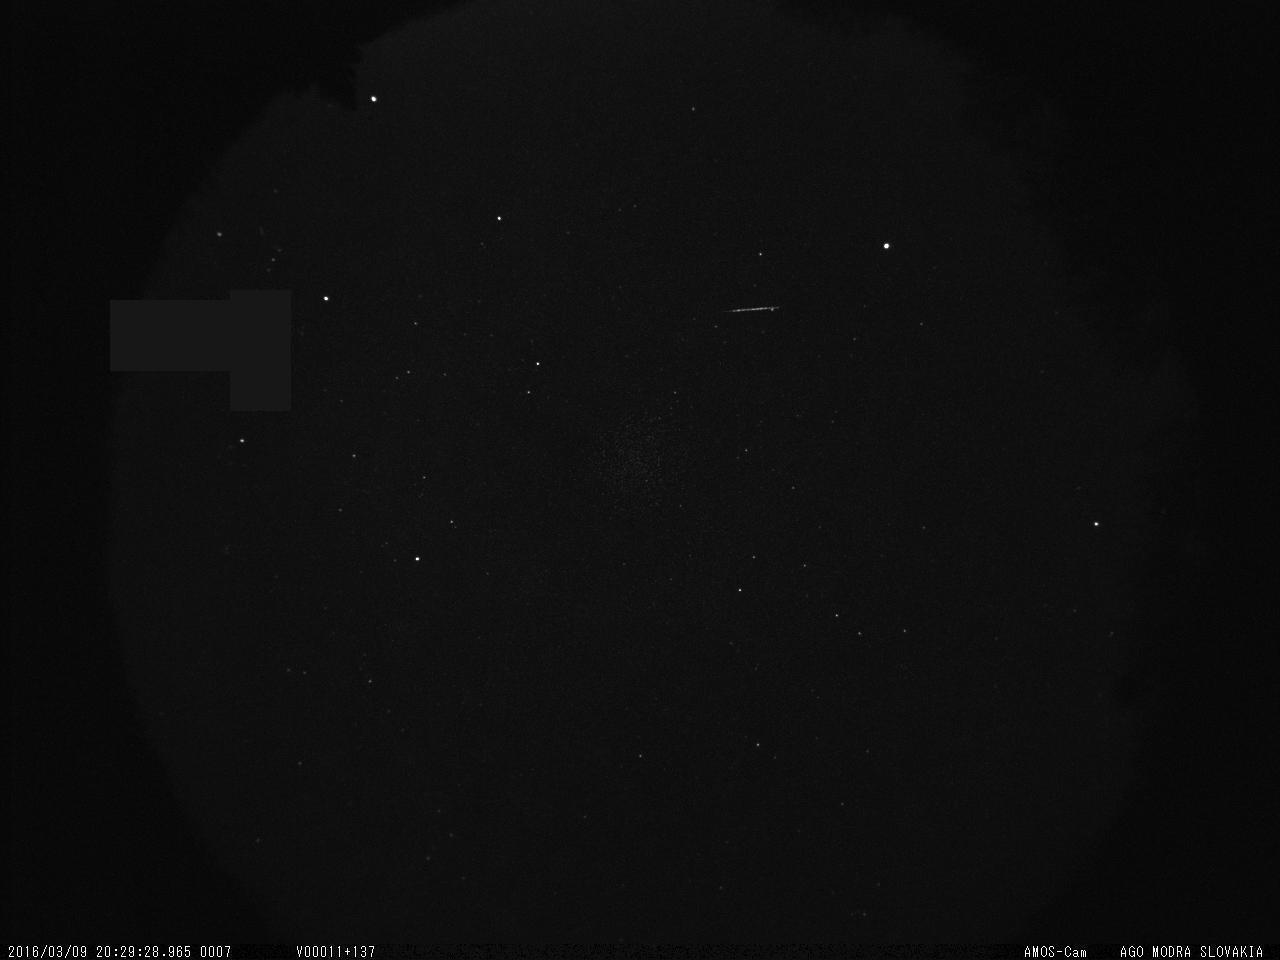Meteor: (717, 294, 789, 324)
